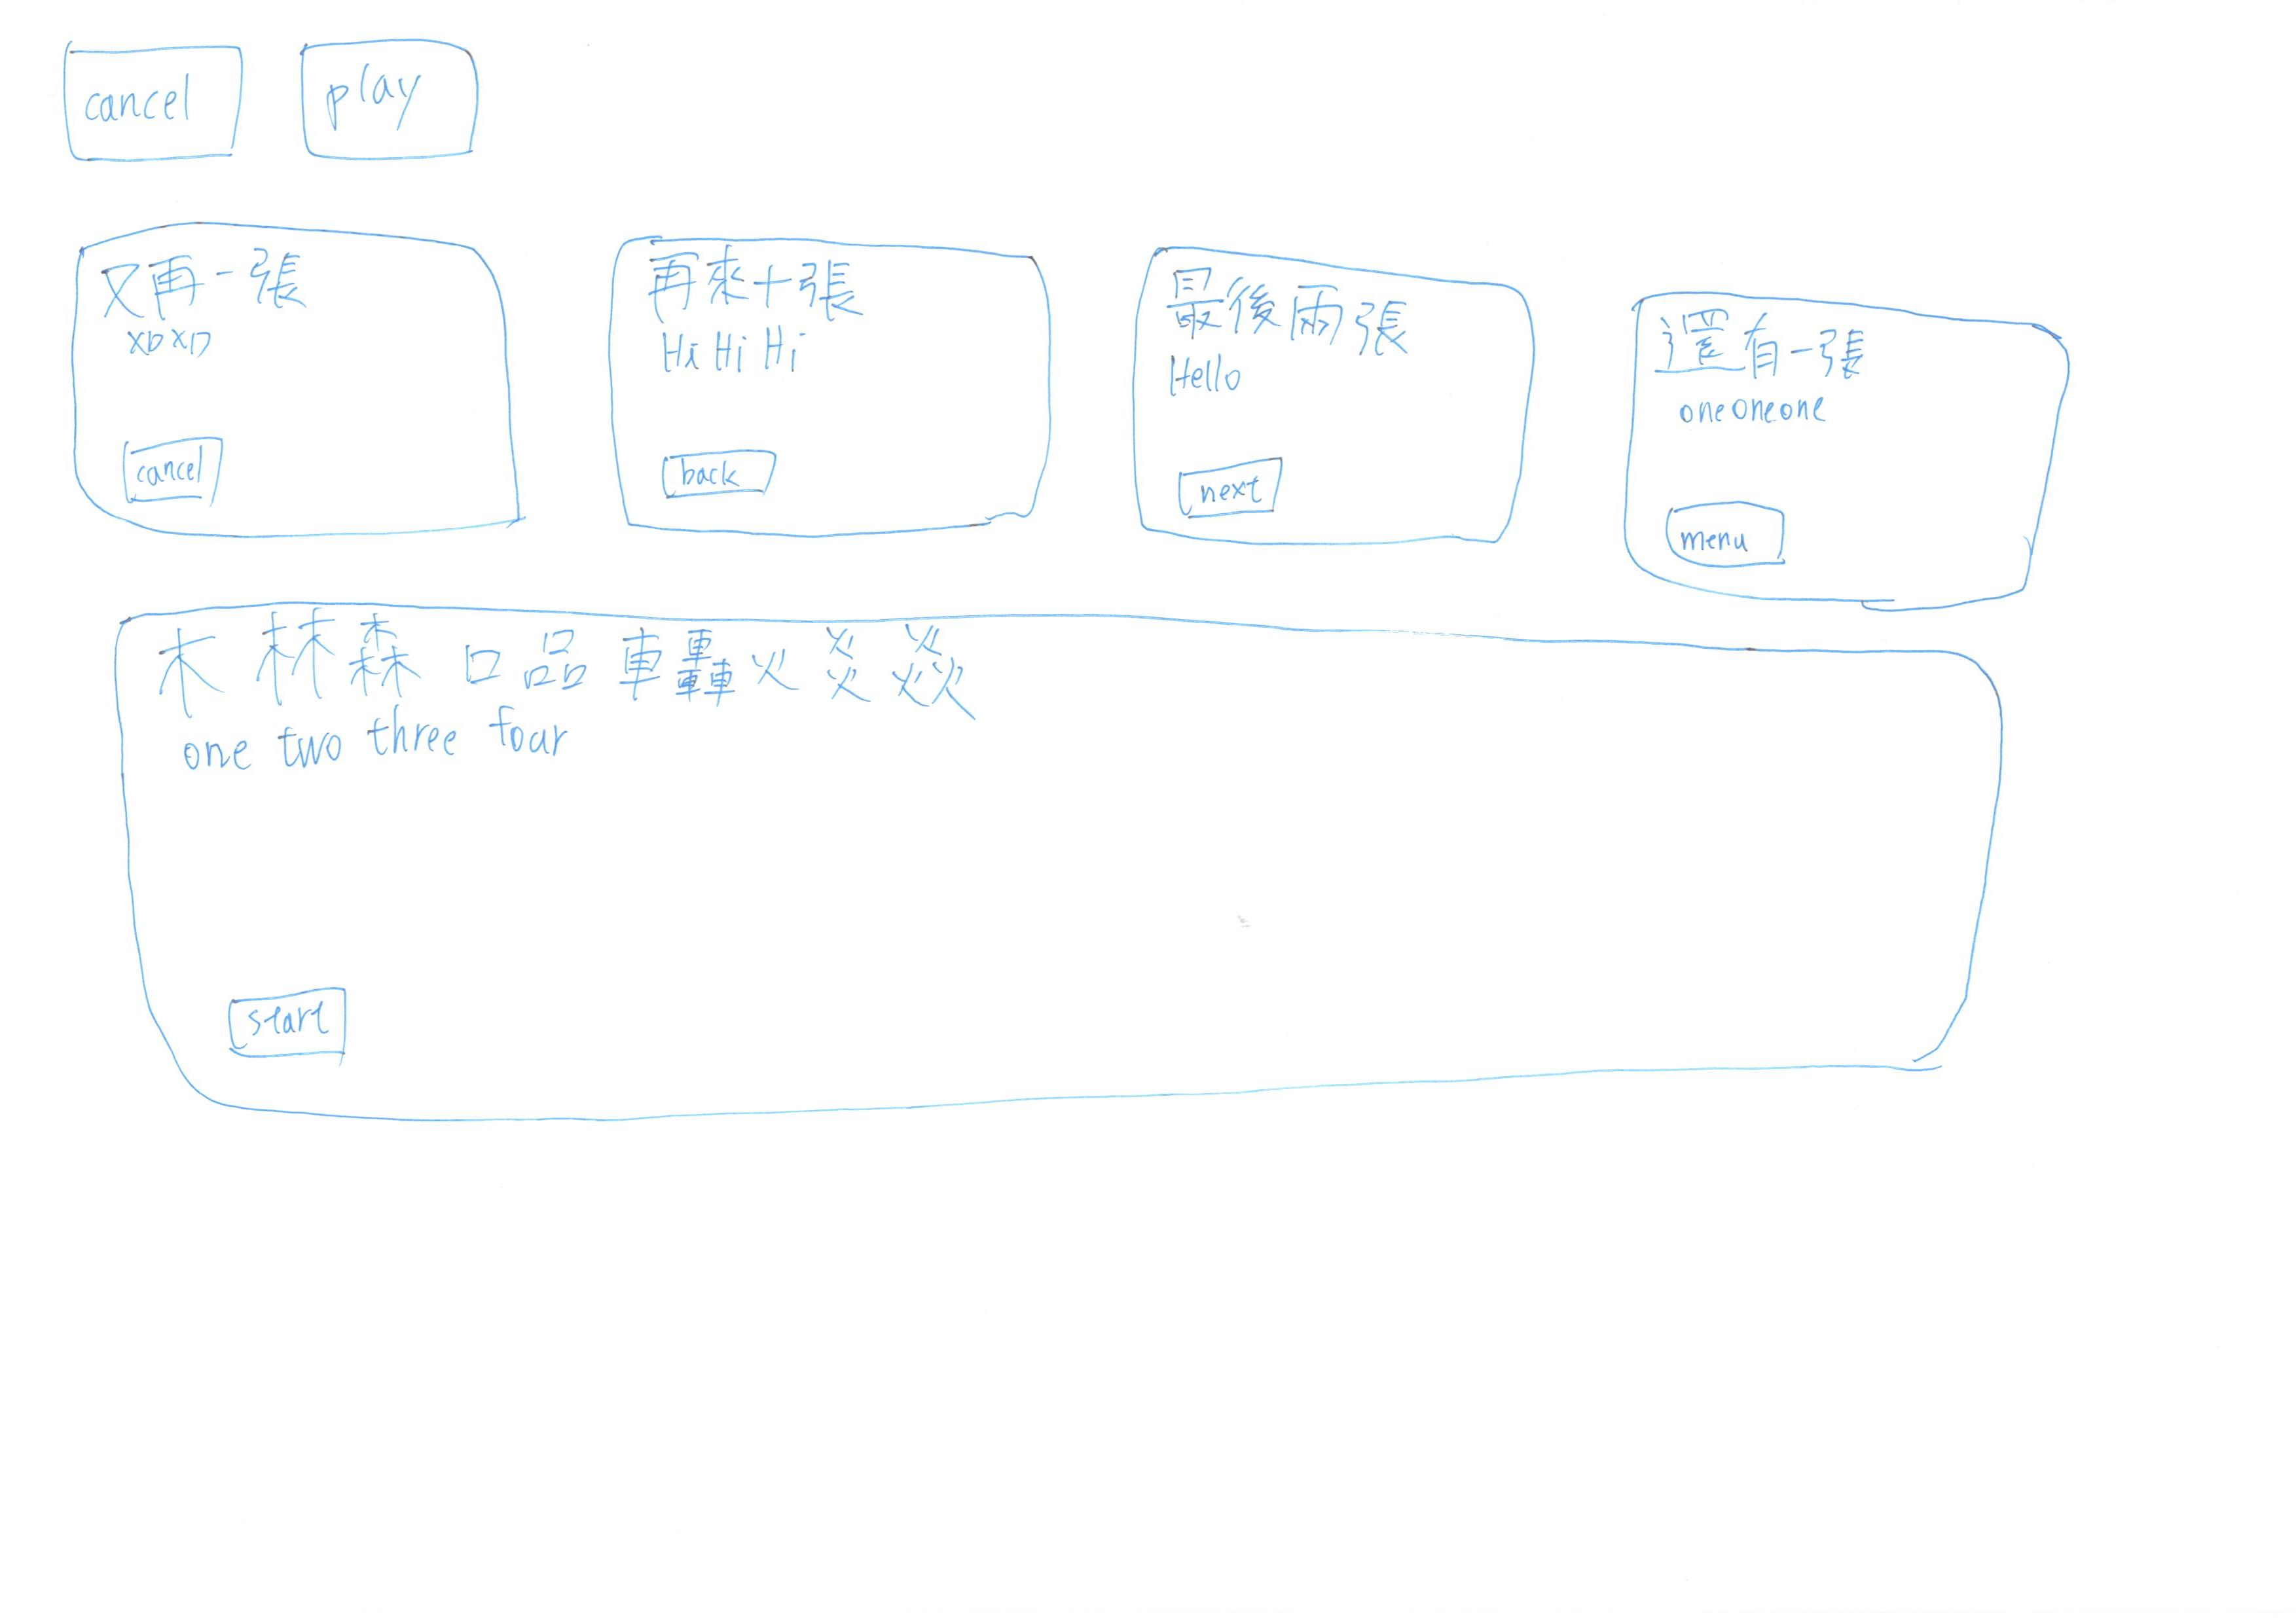back: (629, 417, 795, 513)
cancel: (51, 16, 267, 185), (102, 422, 276, 534)
menu: (1638, 483, 1814, 596)
next: (1160, 436, 1296, 531)
play: (281, 14, 536, 197)
quadruple: (54, 195, 580, 576), (573, 197, 1099, 578), (1088, 209, 1614, 591), (1563, 257, 2087, 638)
row: (32, 587, 2296, 1202), (26, 185, 2291, 619), (19, 0, 2271, 197)
single: (33, 587, 2094, 1160)
small-title: (148, 626, 1009, 710), (86, 236, 316, 360), (654, 237, 928, 337), (1144, 276, 1454, 339), (1651, 313, 1874, 381)
start: (218, 965, 403, 1106)
text: (149, 710, 649, 786), (93, 313, 280, 390), (1665, 388, 1864, 459), (1146, 334, 1285, 429), (656, 323, 828, 390)
